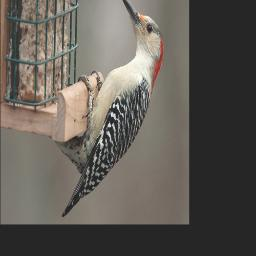Woodpecker: (54, 0, 165, 218)
